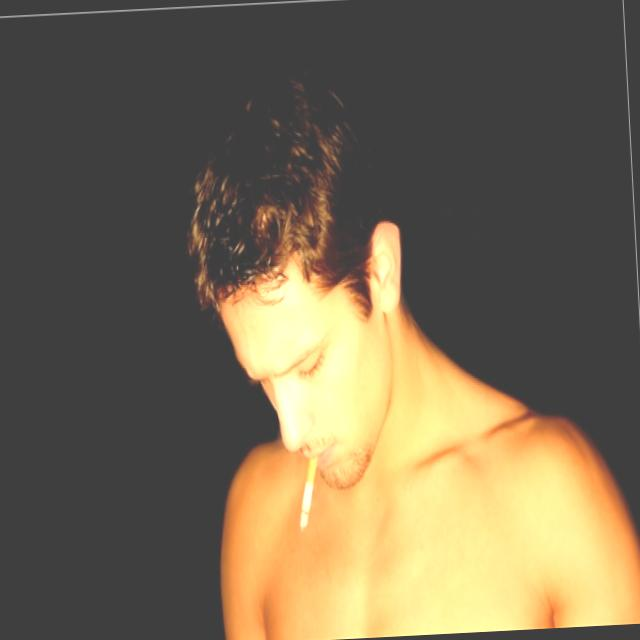cigarette: (293, 452, 323, 534)
